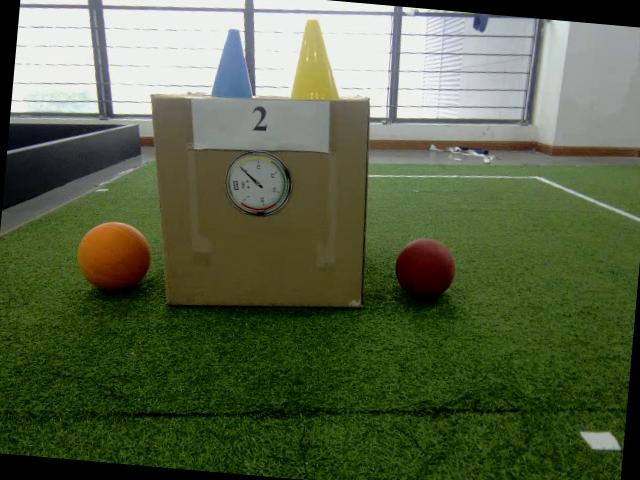2: (248, 104, 270, 134)
Dashboard: (220, 146, 295, 220)
blue_barrel: (206, 26, 262, 102)
orange_ball: (72, 217, 154, 295)
red_ball: (392, 234, 458, 300)
ssi: (229, 178, 240, 192)
yellow_barrel: (290, 15, 348, 103)
